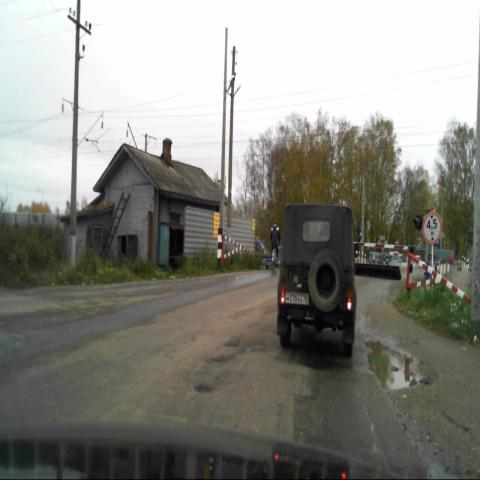3_13: (422, 211, 442, 245)
